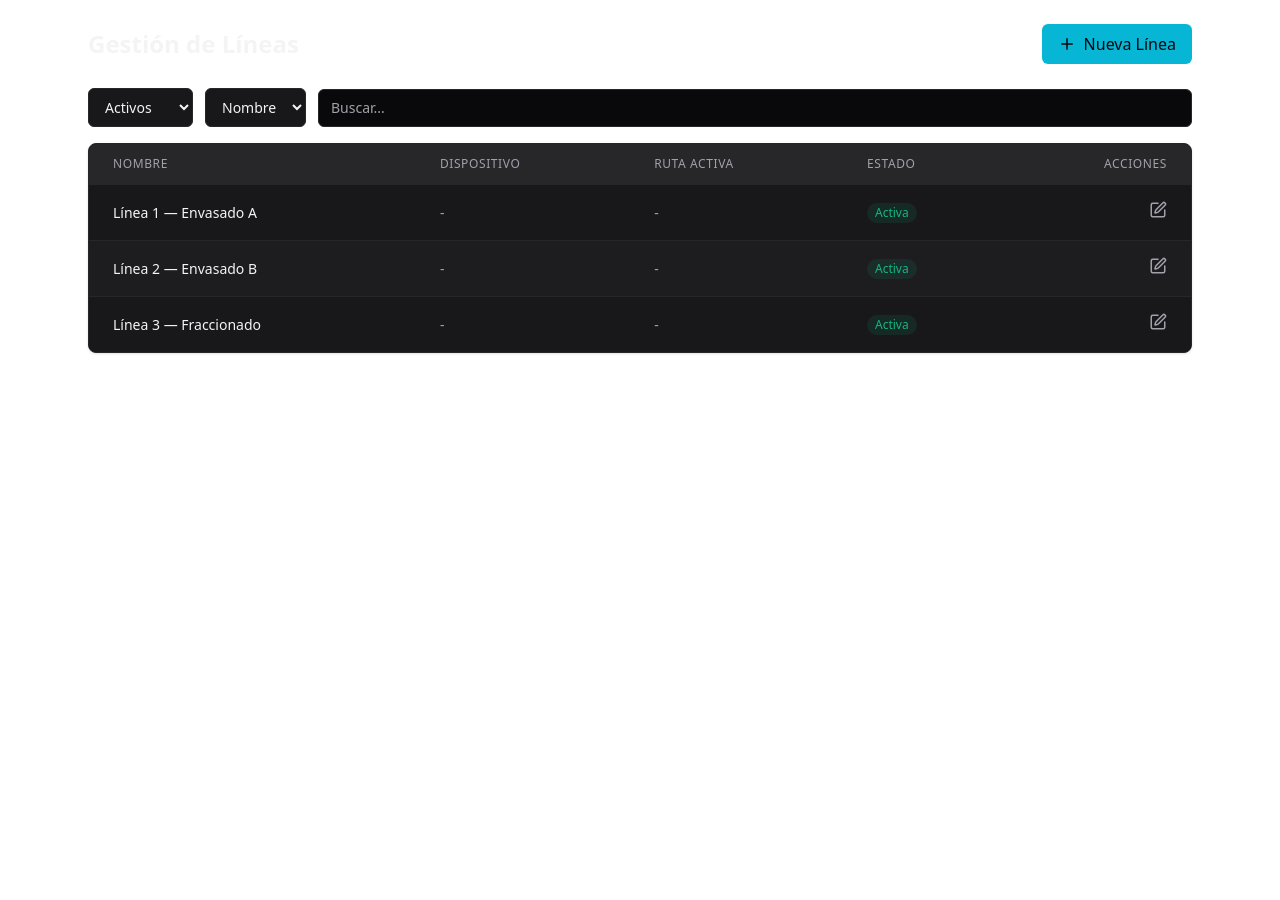
Test: LineasPage › clicking "Activar Línea" sends PUT with activo:true; modal closes on success
Expected: the text "Línea 1 — Envasado A" is shown, [89,184,416,240]
Select "Inactivos" in the 1st dropdown at [140, 108], box [88,88,193,127]
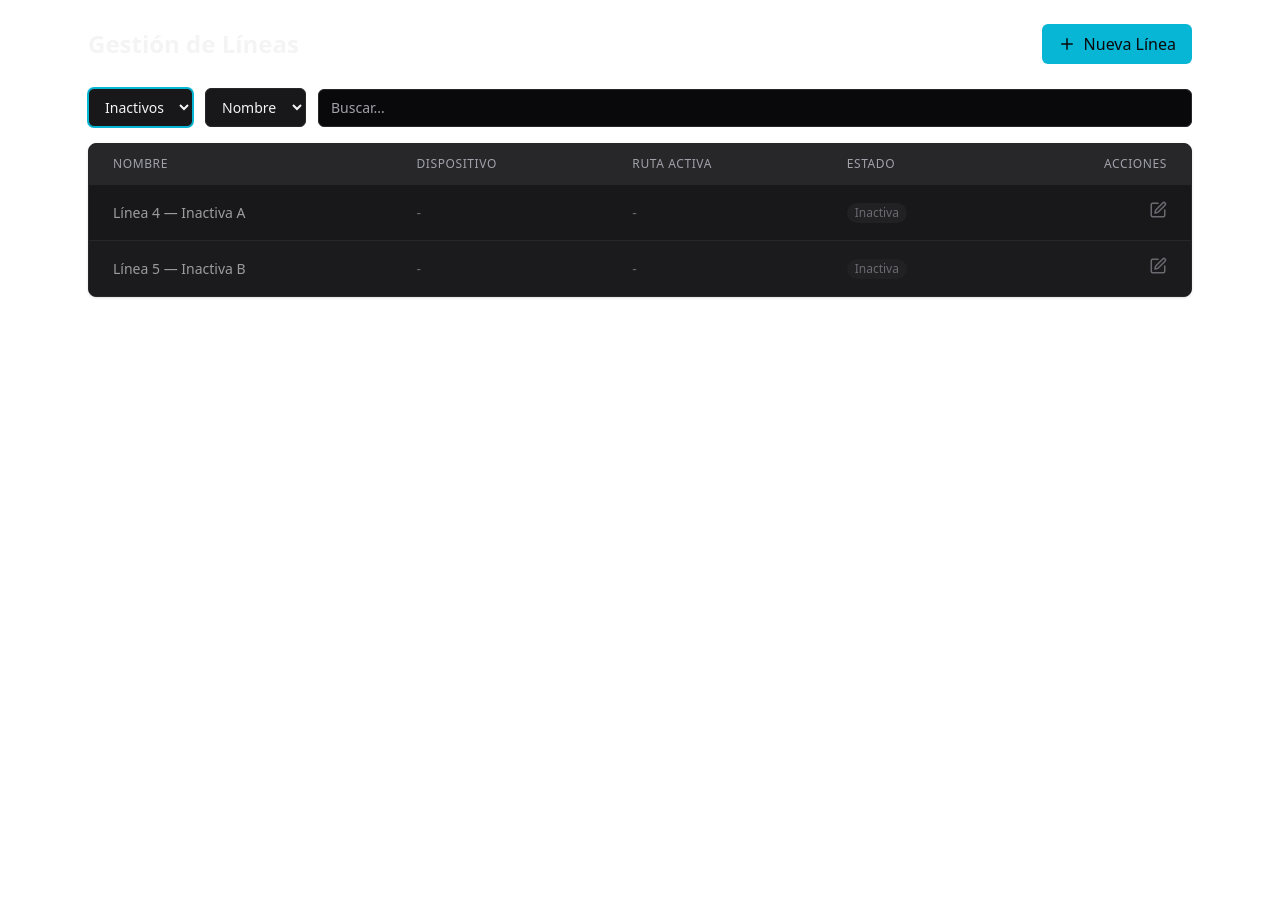
Expected: the text "Línea 4 — Inactiva A" is shown, [89,184,392,240]
Click the button titled "Editar" in the row of "Línea 4 — Inactiva A" at [1158, 210], box [1149,201,1167,219]
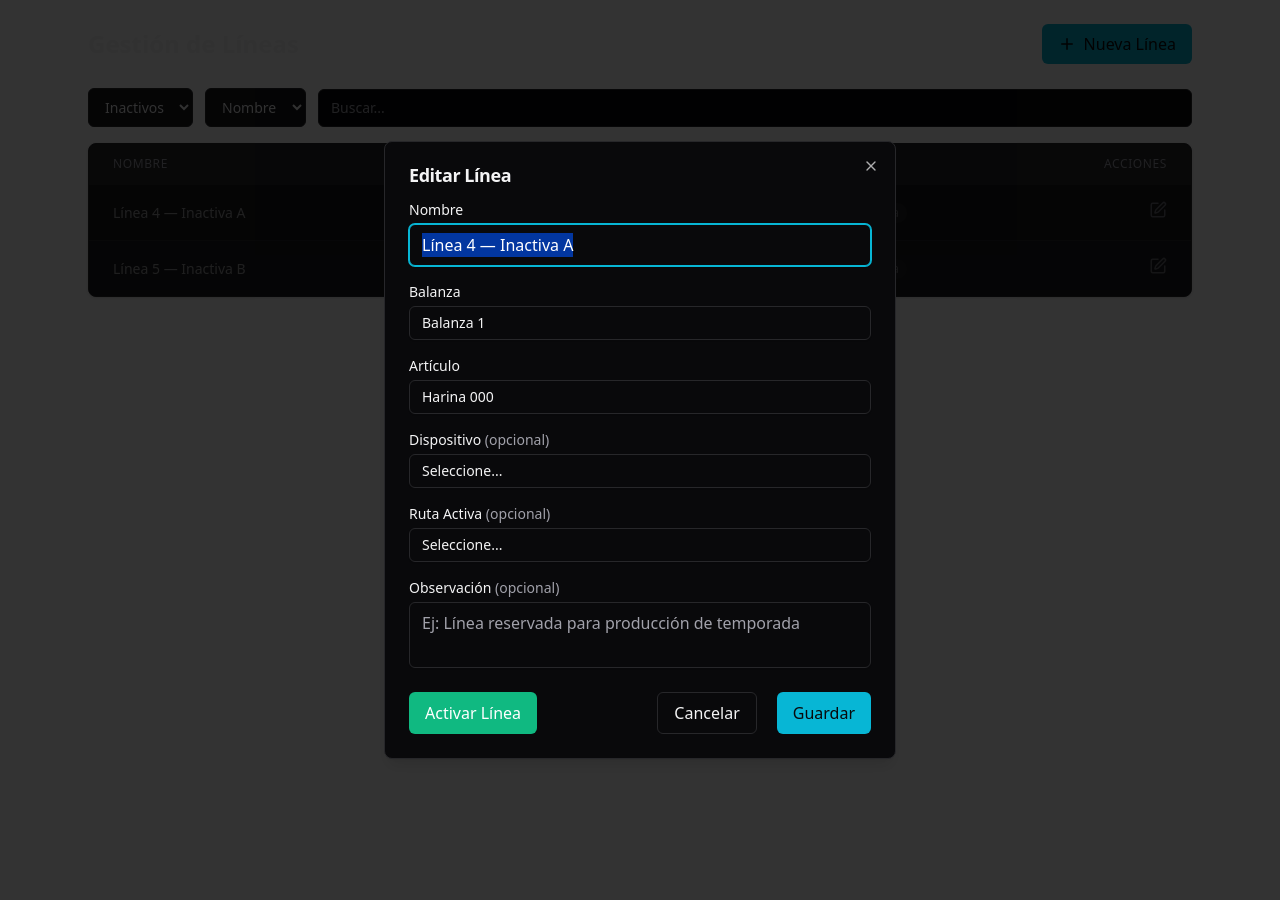
Click the button "Activar Línea" at [473, 713], box [409,692,537,734]
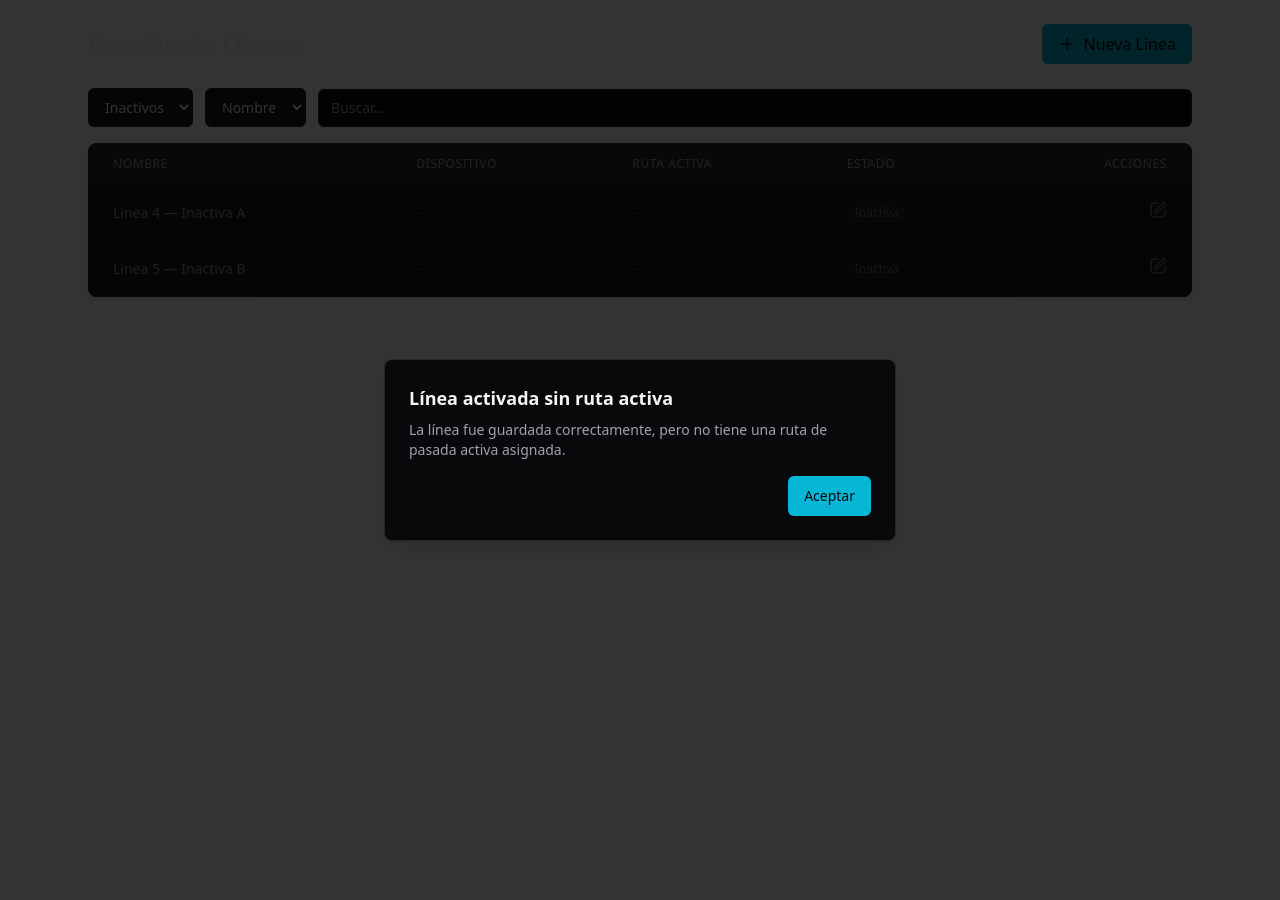
Expected: the heading "Editar Línea" is gone
